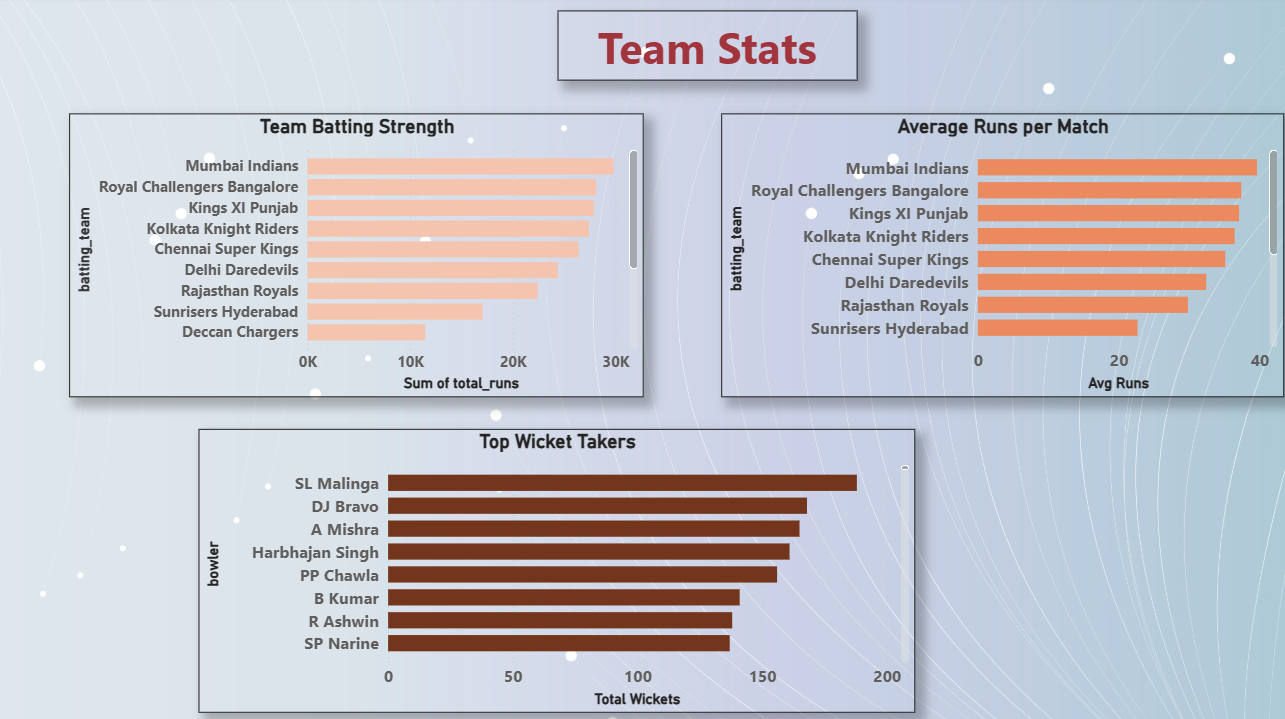

The dashboard page shown, as its layout file describes it:
{"tool":"powerbi","page":{"name":"Team Performance","canvas":[1280,720],"ordinal":1},"visuals":[{"type":"barChart","title":"Team Batting Strength","fields":{"Category":["silver_deliveries.batting_team"],"Y":["Sum(silver_deliveries.total_runs)"]},"box":[108.2,34.3,422.3,279.8],"z":0},{"type":"barChart","title":"Average Runs per Match","fields":{"Category":["silver_deliveries.batting_team"],"Y":["silver_deliveries.Avg Runs"]},"box":[611,34.3,531.8,279.8],"z":1},{"type":"barChart","title":"Top Wicket Takers","fields":{"Category":["silver_deliveries.bowler"],"Y":["silver_deliveries.Total Wickets"]},"box":[162.2,395,603.7,279.3],"z":2}]}

Visuals, with their boxes in screenshot pixels (x1, y1, x2, y2), scaled from the page's 1280x720 canvas onto the 1285x719 screenshot:
"Team Batting Strength" barChart: <region>109, 34, 533, 314</region>
"Average Runs per Match" barChart: <region>613, 34, 1147, 314</region>
"Top Wicket Takers" barChart: <region>163, 394, 769, 673</region>
